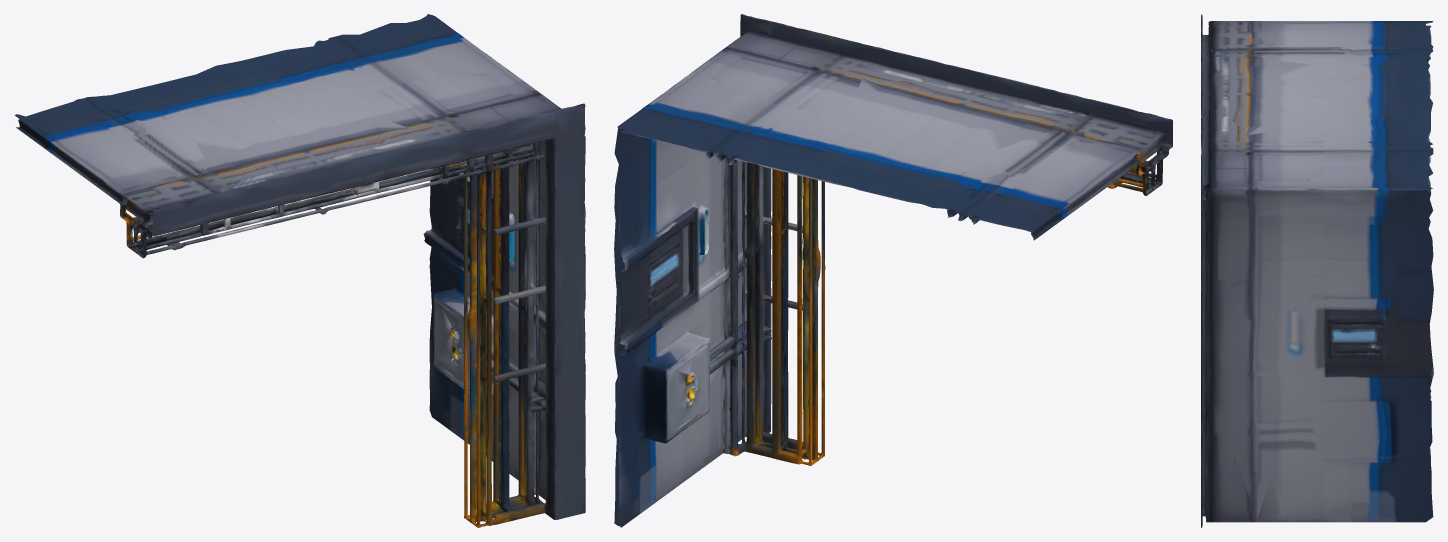
Rendered from servernaya_ugol.glb.
3 renders of one model, left to right at view 1: azimuth 30°, elevation 25°; view 2: azimuth 150°, elevation 25°; view 3: azimuth 270°, elevation 25°, orthographic. The views are drawn at different scales.
Visible parts, largest first — view 1: servernaya_ugol; view 2: servernaya_ugol; view 3: servernaya_ugol.
Boxes of the visible parts, x1,y1,x2,y2 form: servernaya_ugol: (14, 14, 585, 527); servernaya_ugol: (614, 14, 1172, 527); servernaya_ugol: (1201, 14, 1433, 527).
Size of the model in its own units: 6.45 by 5.85 by 3.63.
Materials: 1 (1 with a texture image).
